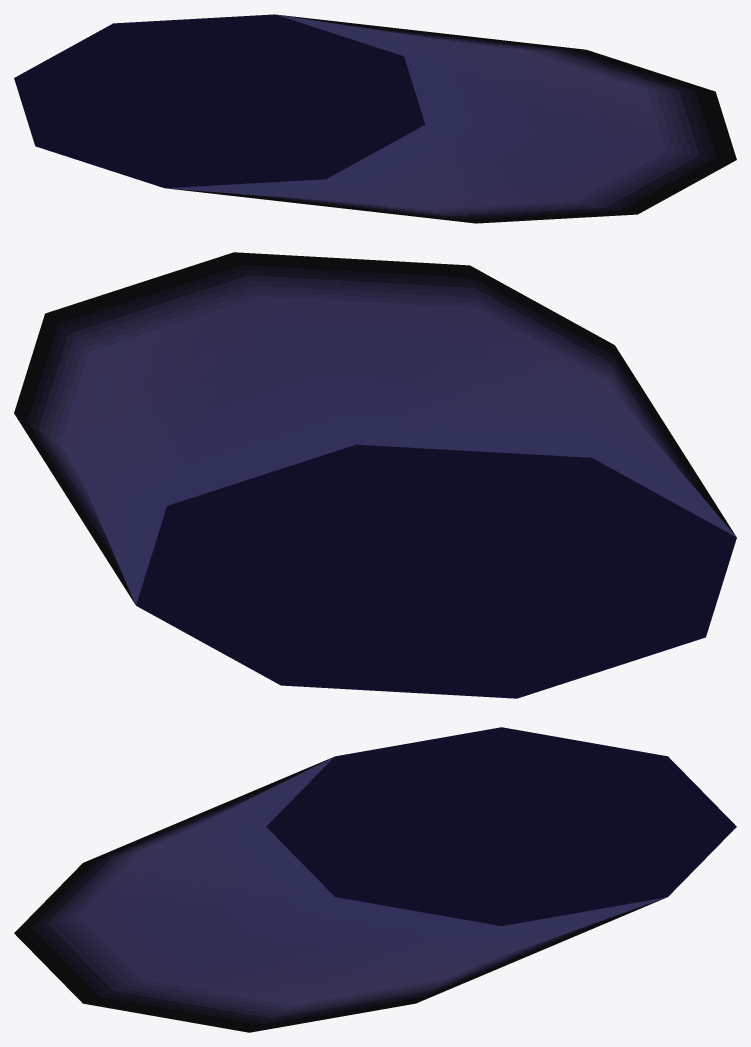
3 views of the same model, one above another, from view 1: azimuth 30°, elevation 25°; view 2: azimuth 150°, elevation 25°; view 3: azimuth 270°, elevation 25° (orthographic). The views are drawn at different scales.
Visible parts, largest first — view 1: Joint_0_Object_0; view 2: Joint_0_Object_0; view 3: Joint_0_Object_0.
Part boxes in pixels (x1,y1,x2,y2): Joint_0_Object_0: [14, 14, 736, 223]; Joint_0_Object_0: [14, 252, 736, 698]; Joint_0_Object_0: [14, 727, 736, 1032].
Size of the model in its own units: 215 by 0 by 215.
1 material, 1 textured.
